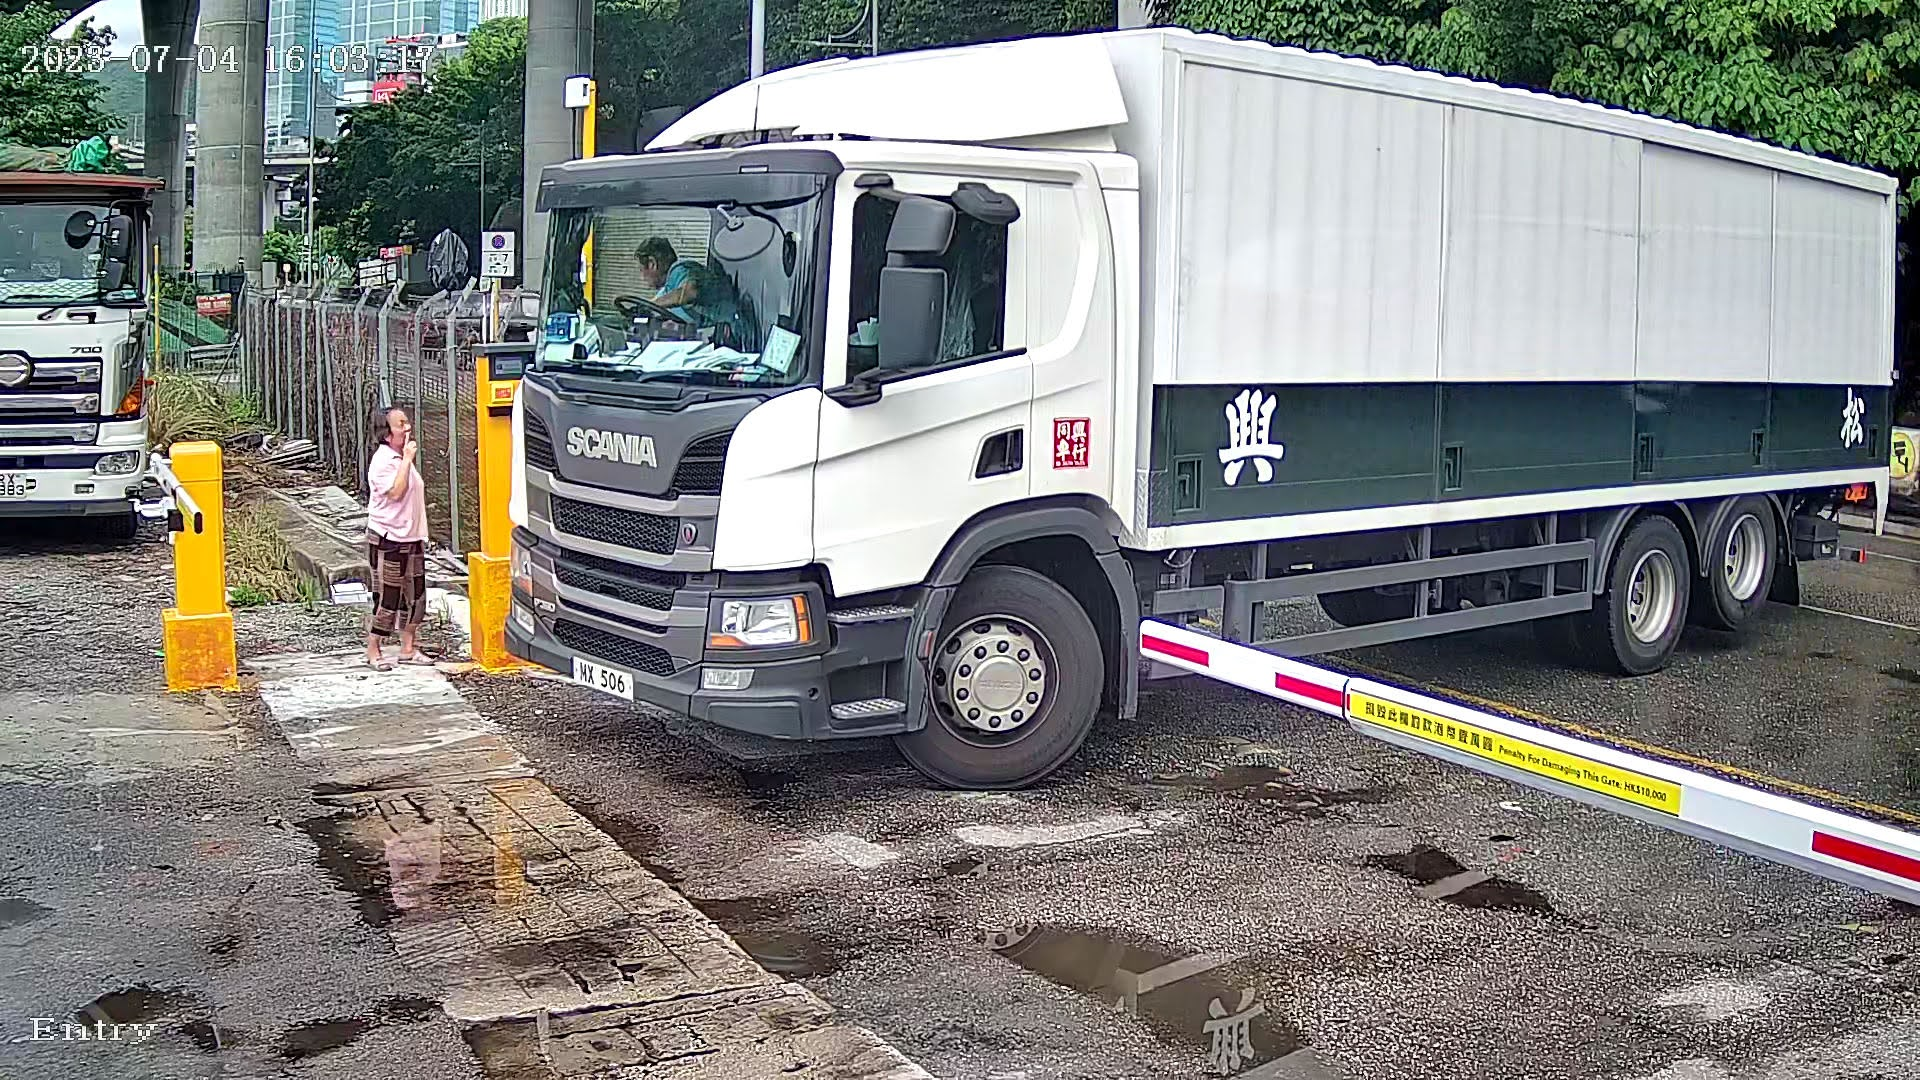truck: (501, 1, 1920, 802)
